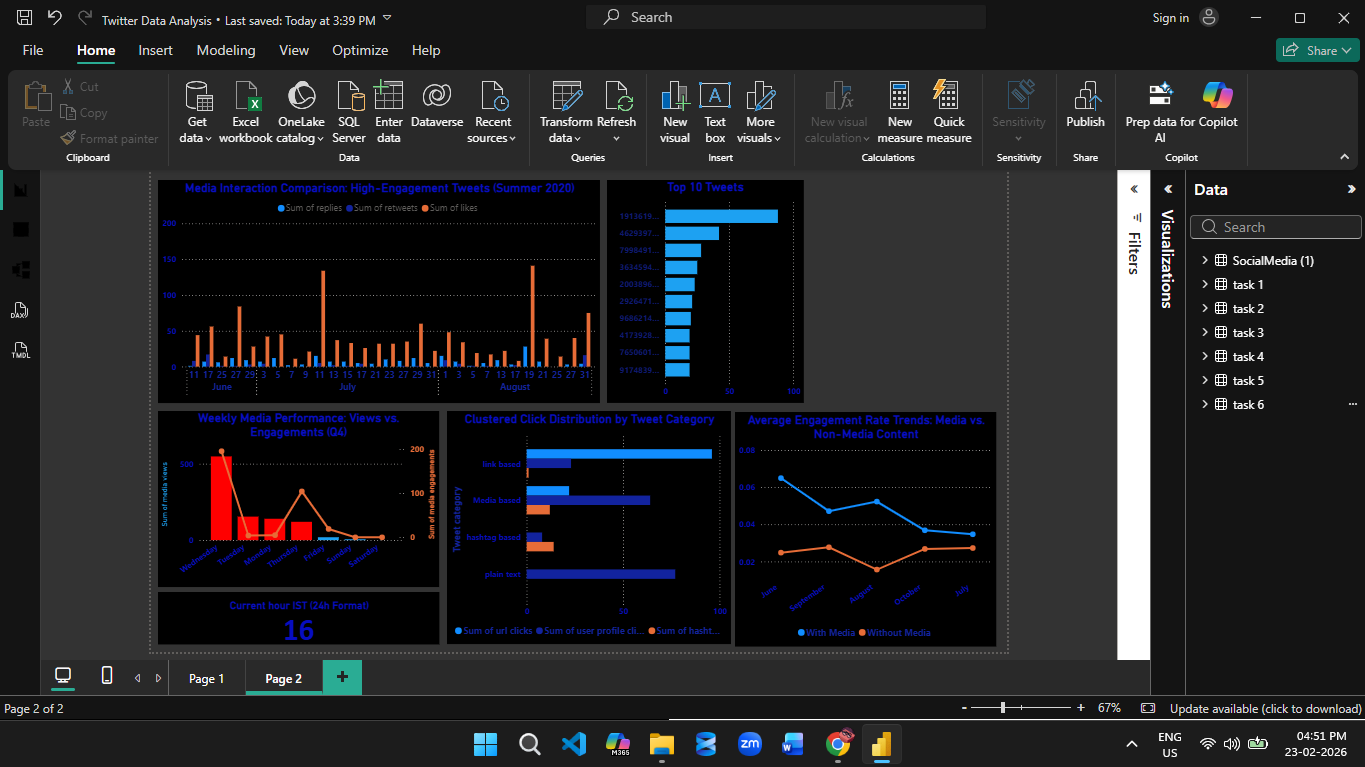

This screenshot's page, from the dashboard's own definition file:
{"tool":"powerbi","page":{"name":"Page 2","canvas":[1280,720],"ordinal":1},"visuals":[{"type":"clusteredBarChart","fields":{"Category":["task 1.Tweet category"],"Y":["Sum(task 1.url clicks)","Sum(task 1.user profile clicks)","Sum(task 1.hashtag clicks)"]},"box":[442.2,360,424.2,348],"z":0},{"type":"clusteredBarChart","fields":{"Category":["task 2.user profile"],"Y":["task 2.Top 10 Engagement"]},"box":[681.2,14.9,295.8,333.1],"z":1000},{"type":"scatterChart","fields":{"Y":["Sum(task 3.media engagements)"],"X":["Sum(task 3.media views)"],"Category":["task 3.Tweet"]},"box":[990.4,14.9,271.9,333.1],"z":2000},{"type":"card","title":"Current hour IST (24h Format)","fields":{"Values":["task 3.Check_Hour"]},"box":[10.5,630.4,419.8,77.7],"z":3000},{"type":"clusteredColumnChart","fields":{"Y":["Sum(task 4.replies)","Sum(task 4.retweets)","Sum(task 4.likes)"],"Category":["task 4.date.Variation.Date Hierarchy.Month","task 4.date.Variation.Date Hierarchy.Day"]},"box":[10.5,14.9,660.2,333.1],"z":4000},{"type":"lineClusteredColumnComboChart","fields":{"Category":["task 5.dayweek"],"Y":["Sum(task 5.media views)"],"Y2":["Sum(task 5.media engagements)"]},"box":[10.5,360,419.8,262.9],"z":5000},{"type":"lineChart","fields":{"Category":["task 6.monthname"],"Y":["Avg(task 6.engagement rate)"],"Series":["task 6.with or without media"]},"box":[872.4,361.5,389.9,349.5],"z":6000}]}

Visuals, with their boxes on the page's 1280x720 design canvas (x1, y1, x2, y2). These are canvas units, not pixel positions in the 1365x767 screenshot, which may show the page scaled, cropped or inside an application window:
clusteredBarChart - task 1.Tweet category x Sum(task 1.url clicks): locate(442, 360, 866, 708)
clusteredBarChart - task 2.user profile x task 2.Top 10 Engagement: locate(681, 15, 977, 348)
scatterChart - Sum(task 3.media engagements) x Sum(task 3.media views): locate(990, 15, 1262, 348)
"Current hour IST (24h Format)" card: locate(10, 630, 430, 708)
clusteredColumnChart - Sum(task 4.replies) x Sum(task 4.retweets): locate(10, 15, 671, 348)
lineClusteredColumnComboChart - task 5.dayweek x Sum(task 5.media views): locate(10, 360, 430, 623)
lineChart - task 6.monthname x Avg(task 6.engagement rate): locate(872, 362, 1262, 711)
